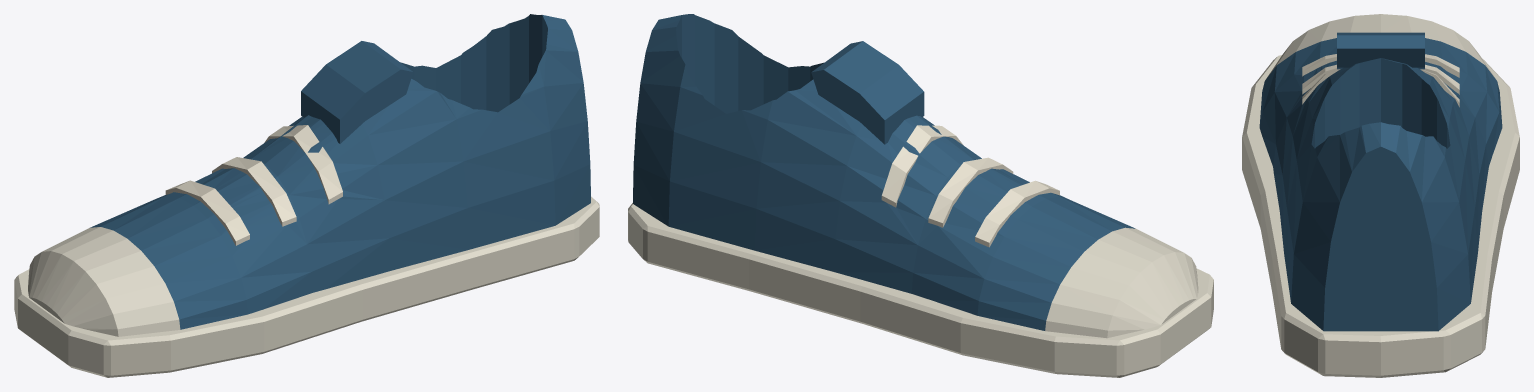
Rendered from sneaker.glb.
3 renders of one model, left to right at view 1: azimuth 30°, elevation 25°; view 2: azimuth 150°, elevation 25°; view 3: azimuth 270°, elevation 25°, orthographic. The views are drawn at different scales.
Visible parts, largest first — view 1: Cream rubber sole; view 2: Cream rubber sole; view 3: Cream rubber sole.
Part boxes in pixels (bbox=[...]): Cream rubber sole: bbox=[14, 14, 599, 377]; Cream rubber sole: bbox=[628, 14, 1213, 377]; Cream rubber sole: bbox=[1242, 14, 1519, 377].
Size of the model in its own units: 0.3 by 0.1136 by 0.12.
